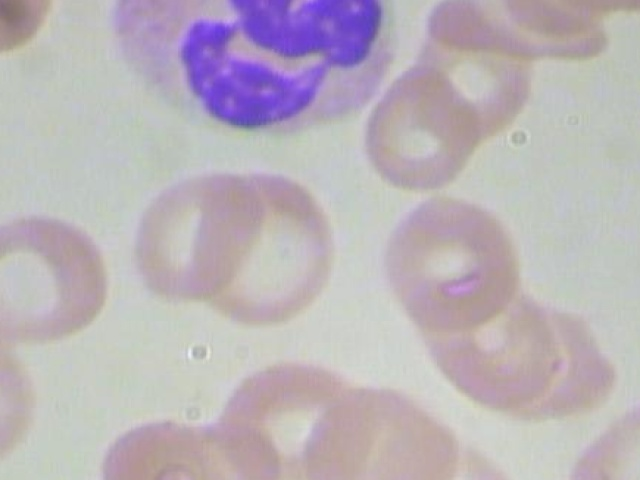RBC: (193, 163, 346, 339), (368, 186, 530, 338), (124, 166, 273, 308), (281, 381, 467, 480), (0, 196, 114, 350), (355, 65, 486, 188), (563, 382, 640, 480), (0, 333, 48, 467), (0, 0, 62, 52)
WBC: (88, 0, 418, 138)
